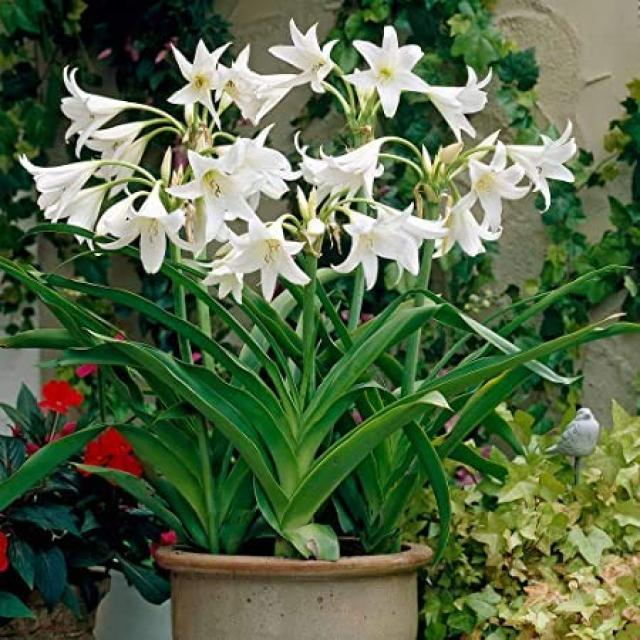lily: (340, 15, 444, 132)
